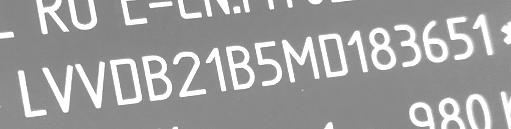letter: (279, 35, 321, 84), (170, 50, 207, 99), (40, 63, 74, 116), (138, 53, 174, 102), (108, 57, 144, 106), (73, 60, 106, 113), (316, 31, 349, 80), (222, 44, 256, 91), (16, 68, 49, 116), (252, 38, 283, 87), (443, 15, 474, 62), (393, 22, 422, 69), (367, 26, 397, 71), (421, 19, 450, 64), (204, 45, 228, 96), (345, 28, 370, 75), (471, 12, 494, 58)
